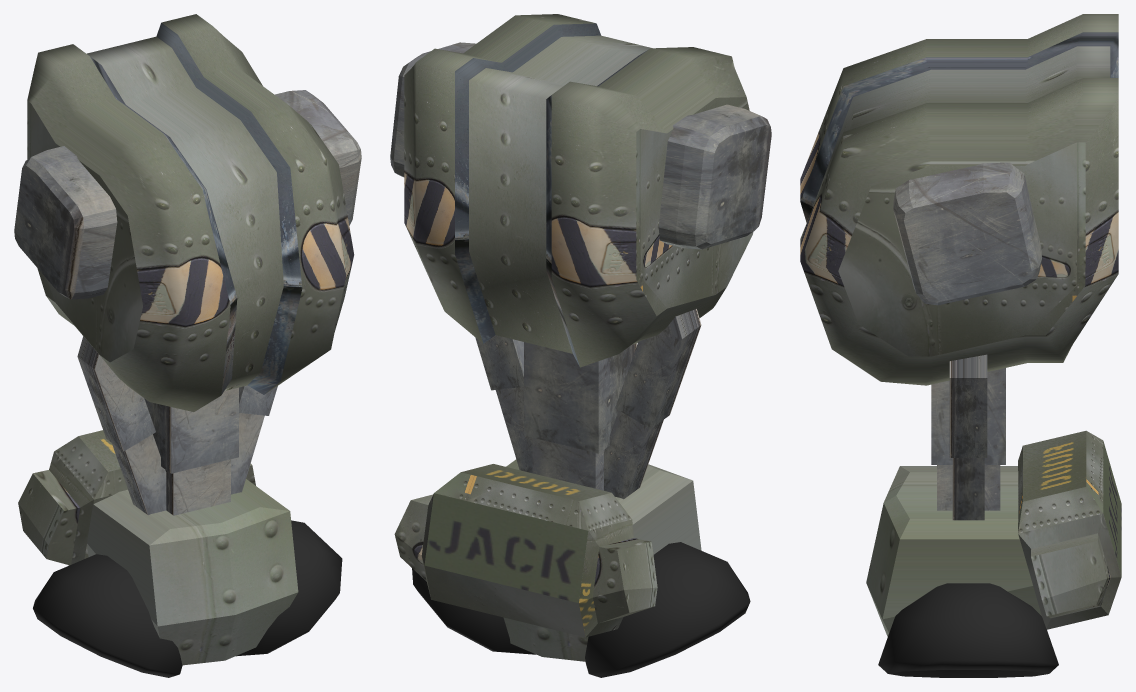
File: robot 4 chasis.fbx
3 renders of one model, left to right at view 1: azimuth 30°, elevation 25°; view 2: azimuth 150°, elevation 25°; view 3: azimuth 270°, elevation 25°, orthographic. The views are drawn at different scales.
Visible parts, largest first — view 1: Cube, Cube.031, Cube.002; view 2: Cube, Cube.031, Cube.002; view 3: Cube, Cube.031, Cube.002.
Boxes of the visible parts, x1=… form: Cube: x1=14, y1=14, x2=361, y2=411; Cube.031: x1=18, y1=430, x2=342, y2=677; Cube.002: x1=77, y1=336, x2=277, y2=515; Cube: x1=390, y1=14, x2=771, y2=367; Cube.031: x1=394, y1=459, x2=750, y2=677; Cube.002: x1=475, y1=309, x2=701, y2=499; Cube: x1=800, y1=14, x2=1118, y2=385; Cube.031: x1=866, y1=430, x2=1121, y2=677; Cube.002: x1=931, y1=354, x2=1005, y2=520.
Size of the model in its own units: 272 by 516 by 247.
